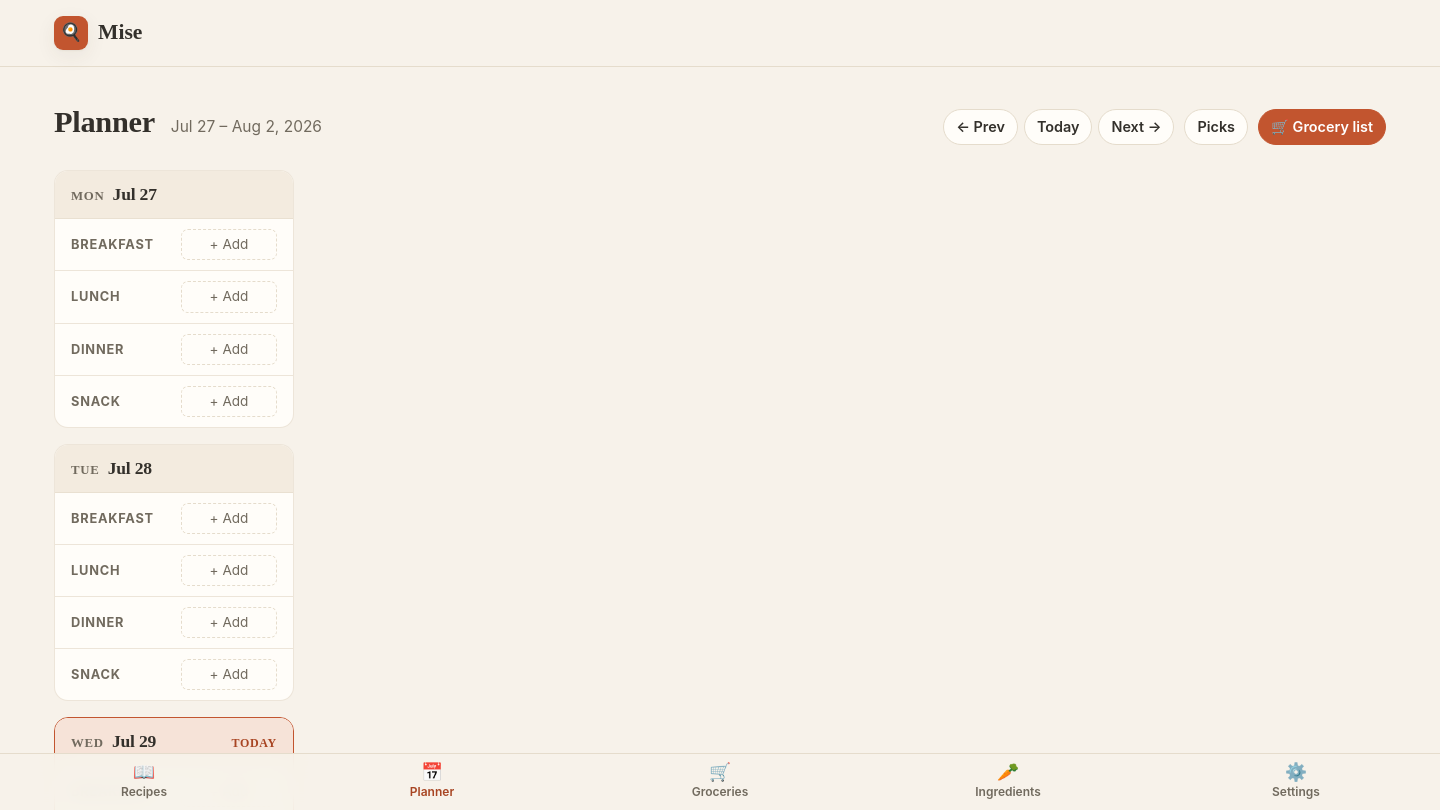
Test: PlannerPage › below the width the week grid needs › opens another week at its Monday
Check: the text "Jul 27 – Aug 2, 2026" is shown, box [171,115,322,139]
Click the button with aria-label "Next week". click: point(1136, 127)
box: [1098,109,1174,145]
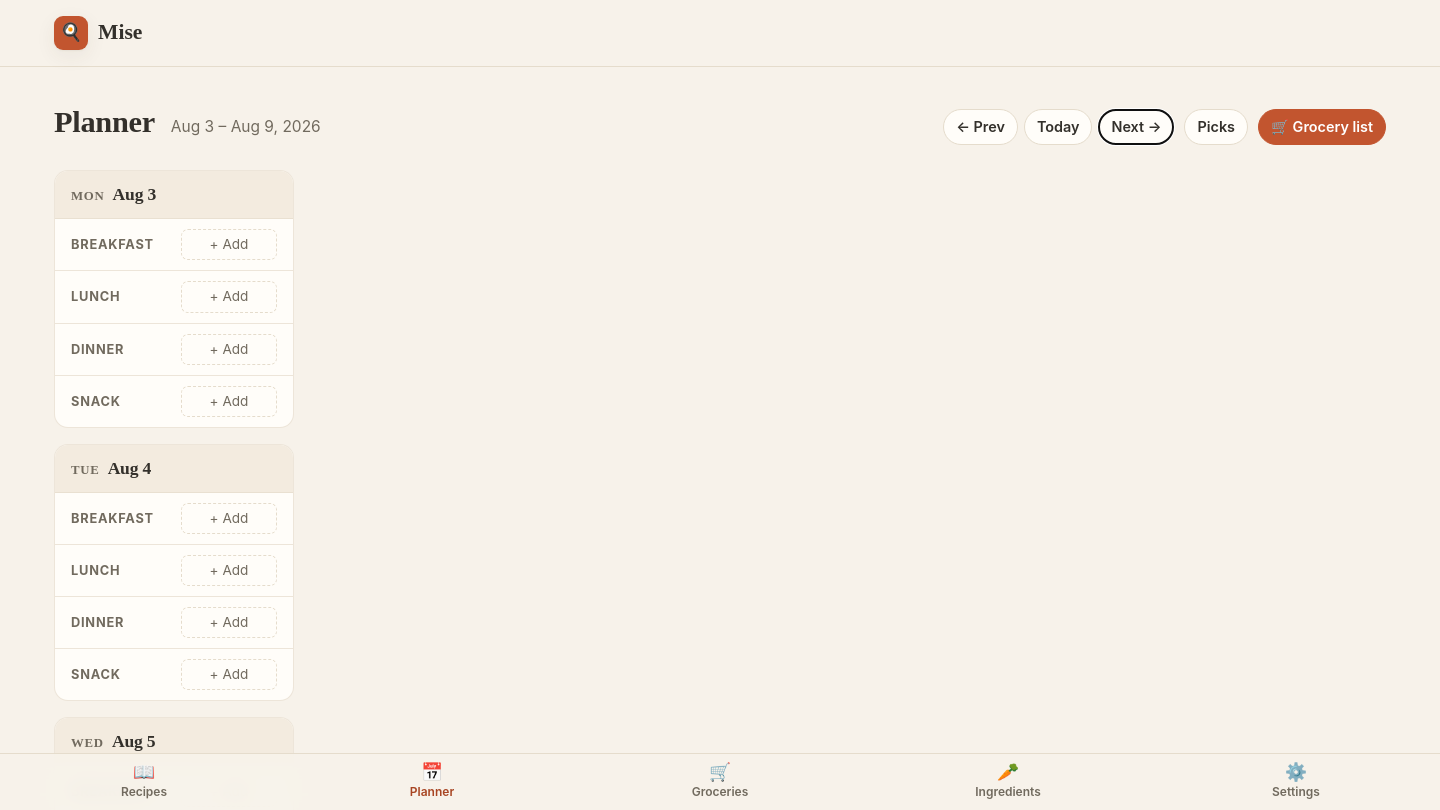
Check: the text "Aug 3 – Aug 9, 2026" is shown, box [171,115,321,139]
